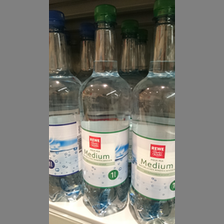water: (80, 6, 131, 217), (127, 1, 175, 224), (49, 8, 81, 205)
